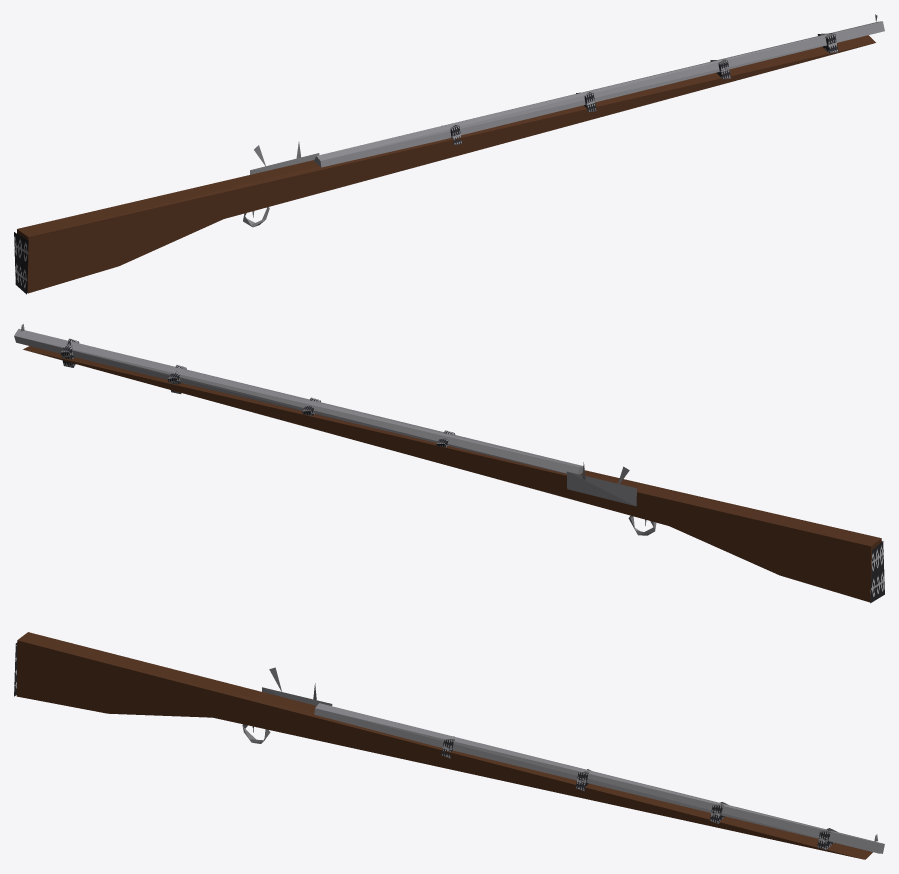
Rendered from flintlock_rifle_lod2.glb.
The picture shows the model from 3 angles, top to bottom: view 1: azimuth 30°, elevation 25°; view 2: azimuth 150°, elevation 25°; view 3: azimuth 330°, elevation 25°; orthographic projection.
Visible parts, largest first — view 1: m; view 2: m; view 3: m.
Part boxes in pixels (x1,y1,x2,y2): m: (14, 14, 884, 294); m: (14, 324, 884, 603); m: (14, 632, 884, 859).
Size of the model in its own units: 1.6 by 0.14 by 0.048.
Materials: 3 (2 with a texture image).
